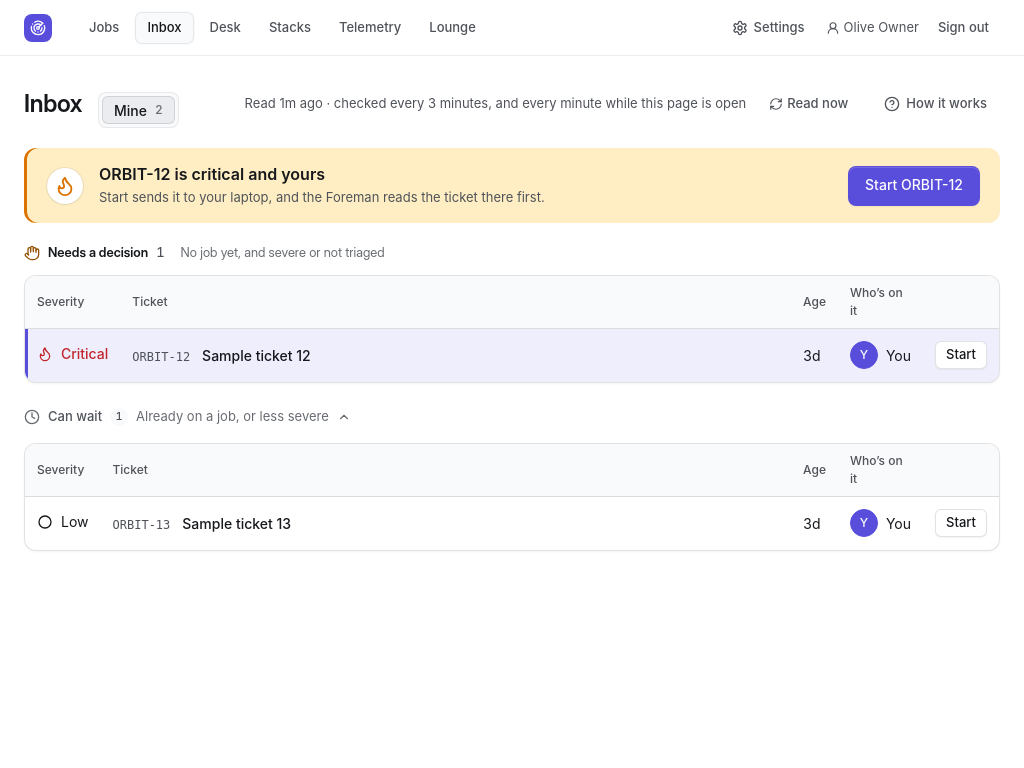
the hosted Inbox › with two laptops it asks which, one choice each, saying which is on
Click the button with aria-label "Start a job on ORBIT-12". click: (961, 355)
box: [935,341,987,369]
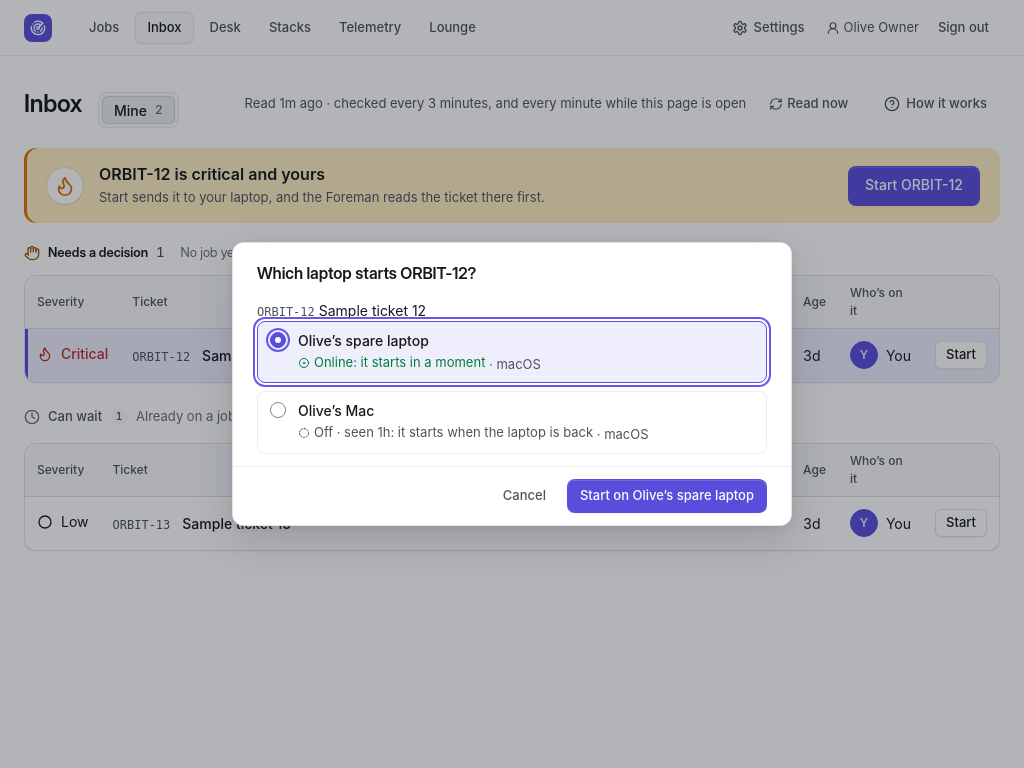
Expected: the number of radio buttons is 2
Expected: the radio button labelled "Olive’s spare laptop Online: it starts in a moment · macOS" is checked, [270,332,286,348]
Expected: the dialog "Which laptop starts ORBIT-12?" shows "Online: it starts in a moment", [314,354,485,370]
Click the radio button labelled "Olive’s Mac". click: (278, 410)
box: [270,402,286,418]
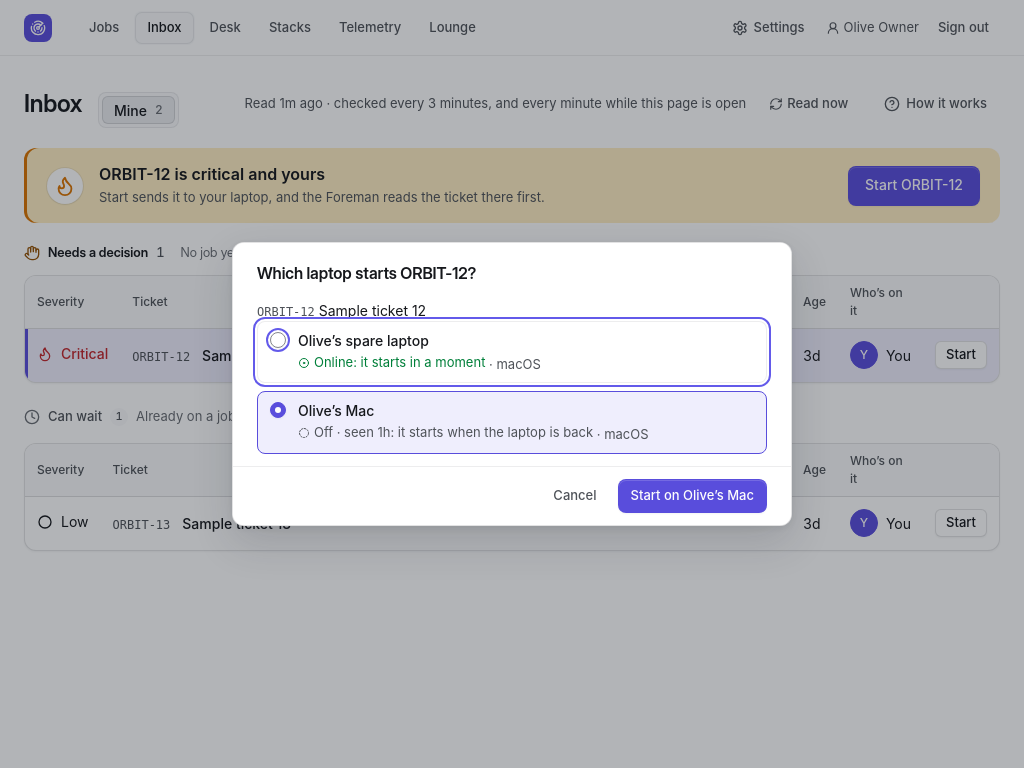
Click the button "Start on Olive’s Mac". click: (692, 496)
box: [618,479,767,513]
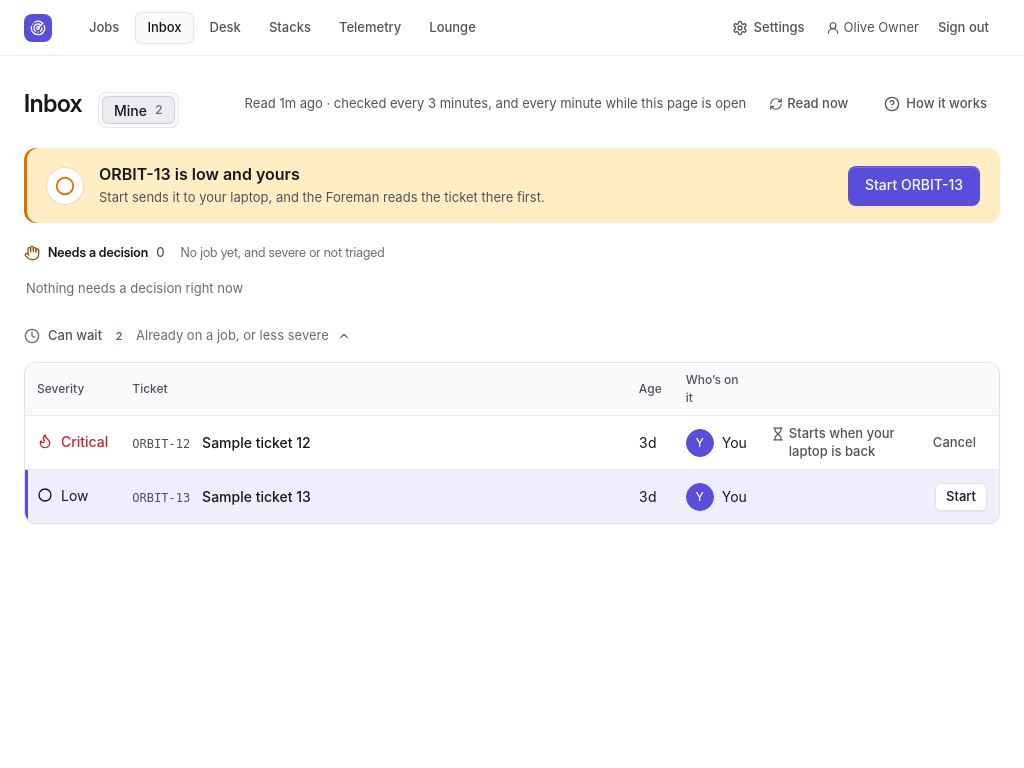
Expected: the dialog is gone
Expected: the text "Starts when your laptop is back" is shown, [771,425,914,460]
